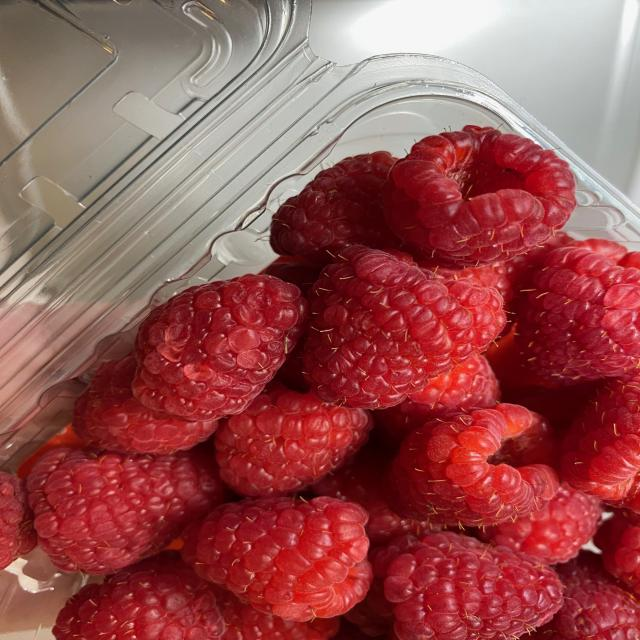raspberries: (52, 128, 619, 638)
